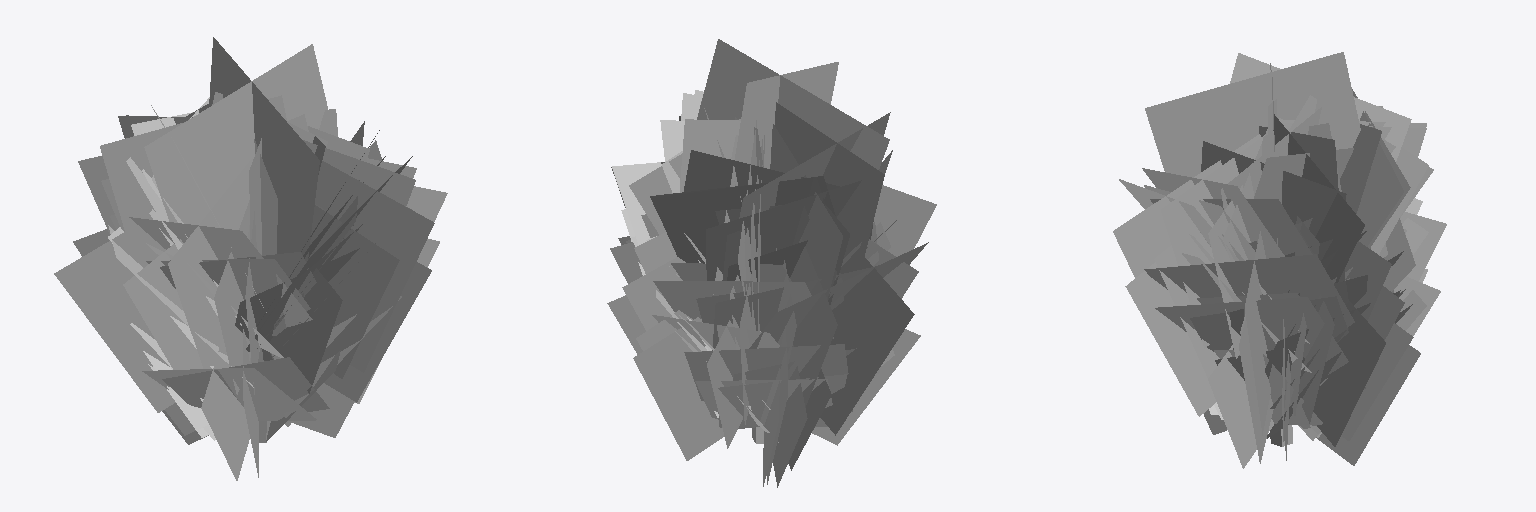
File: bush02.obj
3 renders of one model, left to right at view 1: azimuth 30°, elevation 25°; view 2: azimuth 150°, elevation 25°; view 3: azimuth 270°, elevation 25°, orthographic.
Parts seen in each view (by area): view 1: bush02; view 2: bush02; view 3: bush02.
Part boxes in pixels (x1,y1,x2,y2): bush02: (54,37,447,480); bush02: (607,39,936,487); bush02: (1113,52,1446,468).
Bounding box in the file's own units: 1.7 × 1.88 × 1.41.